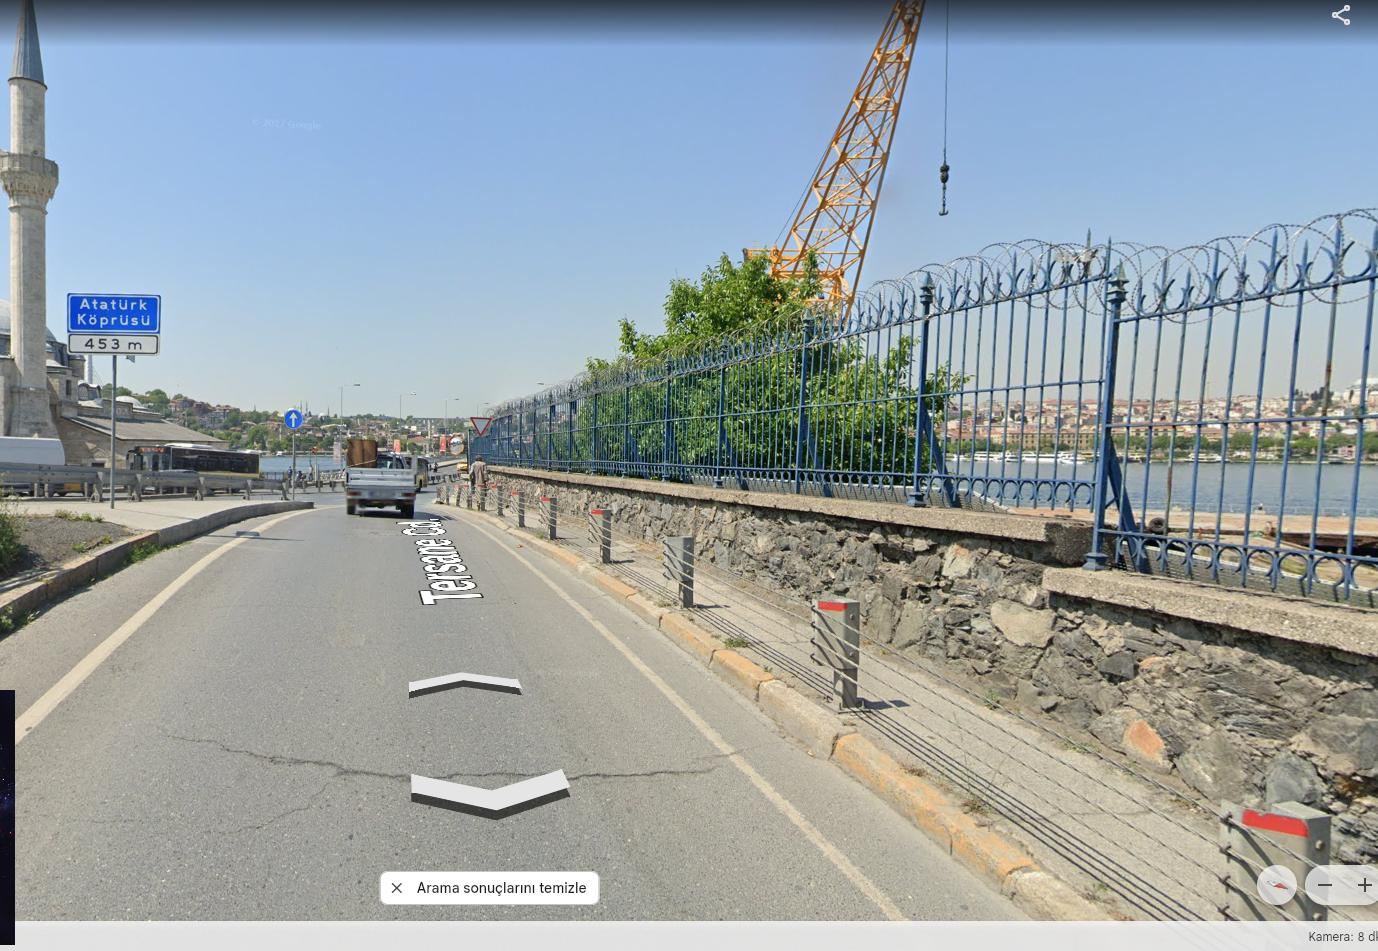forward: (286, 411, 302, 428)
